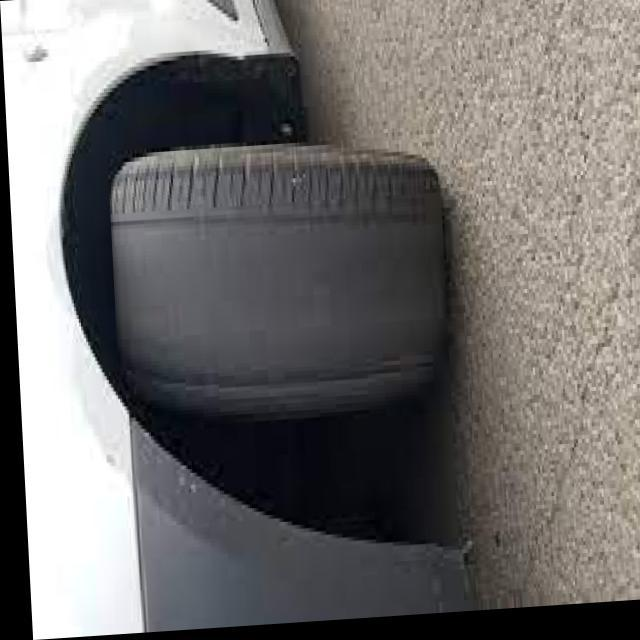Flat spots: (111, 174, 438, 400)
